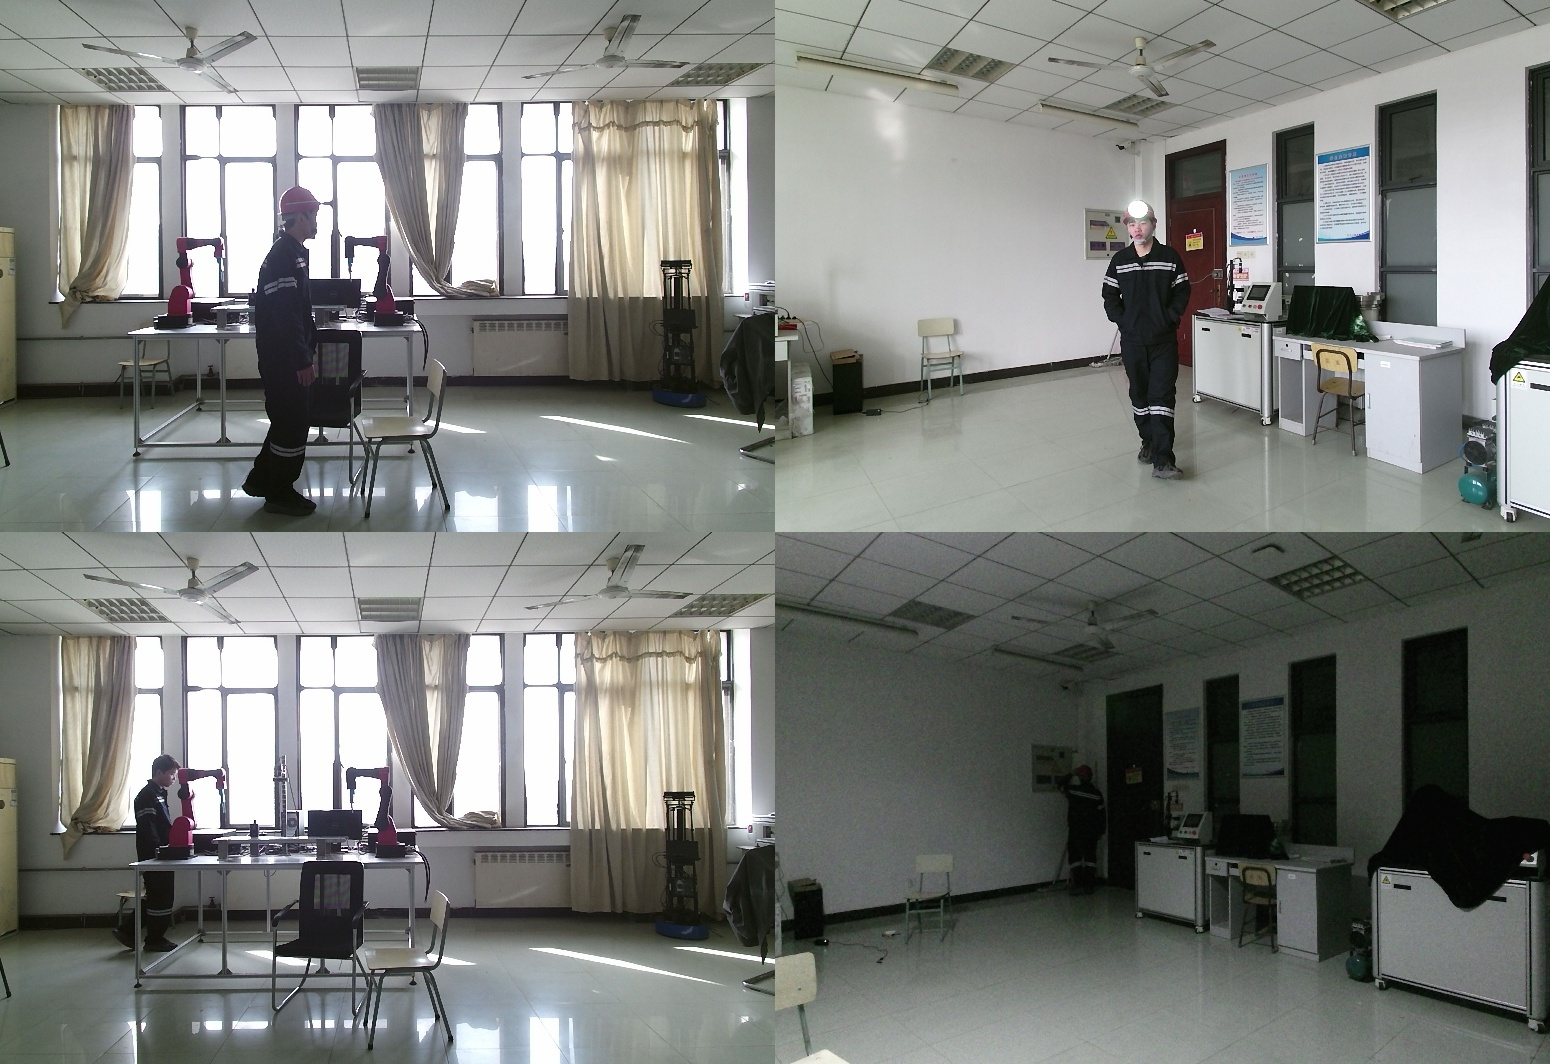person: (248, 188, 338, 513), (1100, 203, 1200, 480), (118, 753, 193, 959), (1056, 768, 1110, 896)
